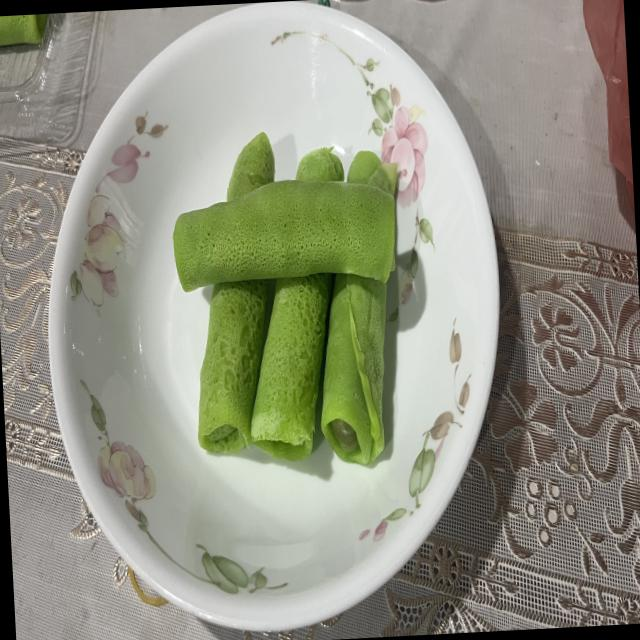Kuih-Ketayap: (173, 180, 396, 291), (251, 273, 332, 462), (322, 274, 387, 463), (198, 281, 267, 454), (227, 132, 275, 202), (347, 151, 397, 194), (296, 148, 344, 182)
